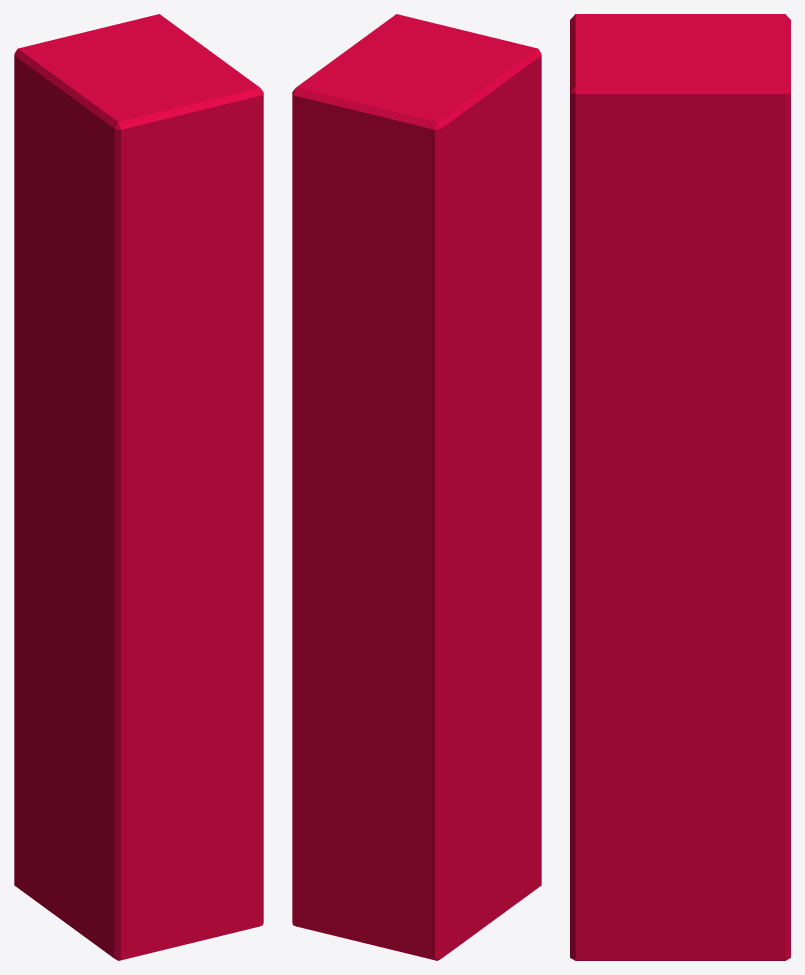
File: Logic_Stick_01.fbx
3 views of the same model, side by side, from view 1: azimuth 30°, elevation 25°; view 2: azimuth 150°, elevation 25°; view 3: azimuth 270°, elevation 25° (orthographic). The views are drawn at different scales.
Parts seen in each view (by area): view 1: Logic_Stick_01; view 2: Logic_Stick_01; view 3: Logic_Stick_01.
Part boxes in pixels (box(x1,y1,x2,y2)): Logic_Stick_01: box(14, 14, 263, 960); Logic_Stick_01: box(292, 14, 541, 960); Logic_Stick_01: box(570, 14, 790, 960).
Size of the model in its own units: 0.6663 by 3.58 by 0.8196.
